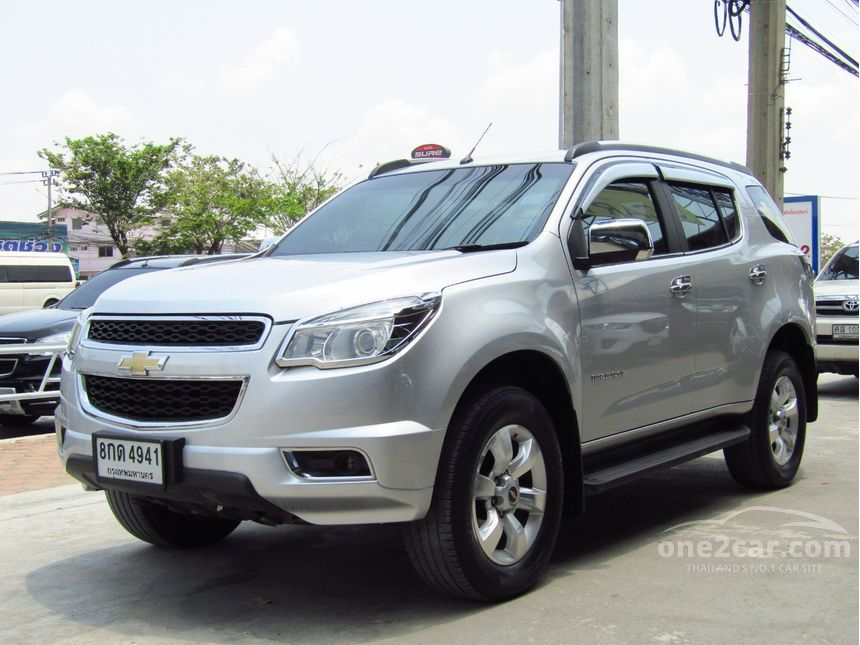pickup: (58, 136, 822, 603)
